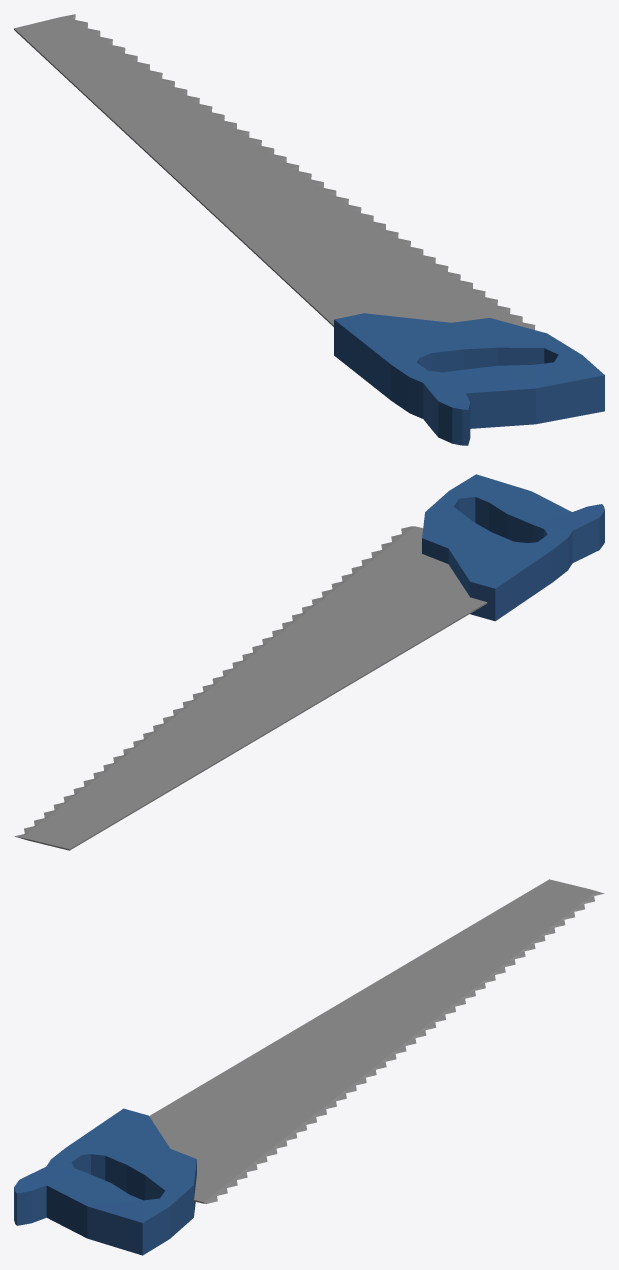
The model's file is saw.glb.
3 views of the same model, one above another, from view 1: azimuth 30°, elevation 25°; view 2: azimuth 150°, elevation 25°; view 3: azimuth 330°, elevation 25° (orthographic). The views are drawn at different scales.
Parts seen in each view (by area): view 1: Hand_saw; view 2: Hand_saw; view 3: Hand_saw.
Part boxes in pixels (x1,y1,x2,y2): Hand_saw: [14, 14, 604, 445]; Hand_saw: [14, 474, 604, 850]; Hand_saw: [14, 879, 604, 1255].
Bounding box in the file's own units: 0.1088 × 0.022 × 0.5757.
Materials: 1 (1 with a texture image).
